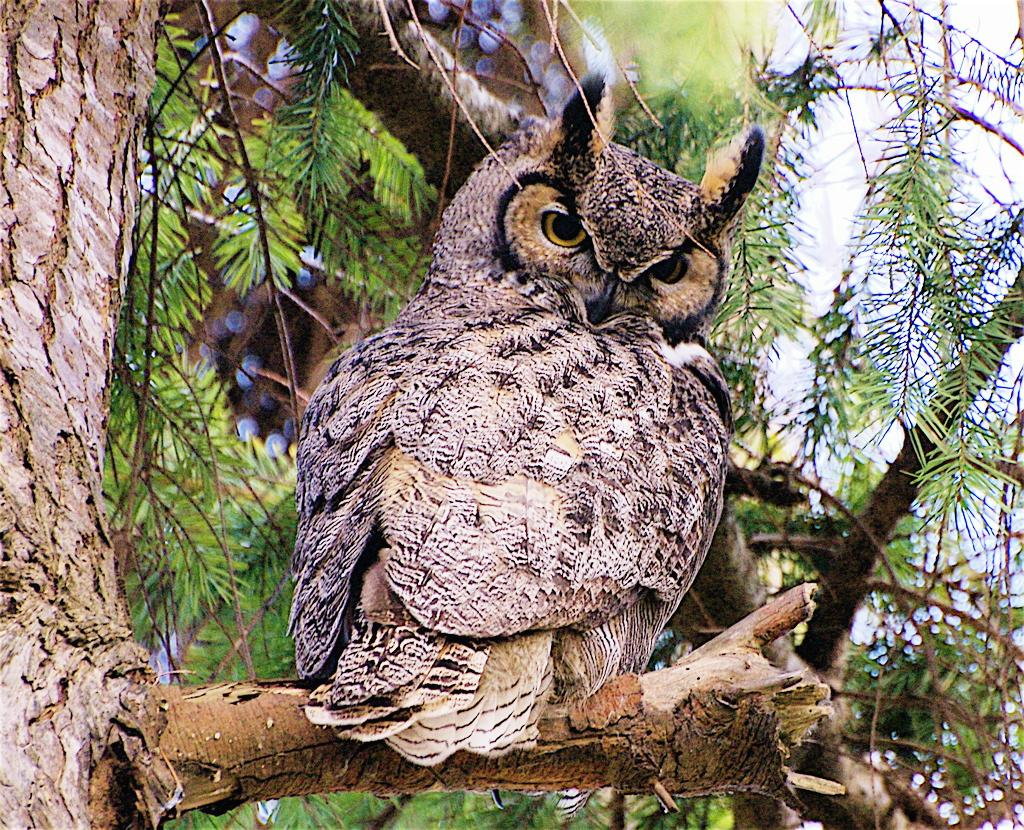Owl: (272, 64, 768, 766)
